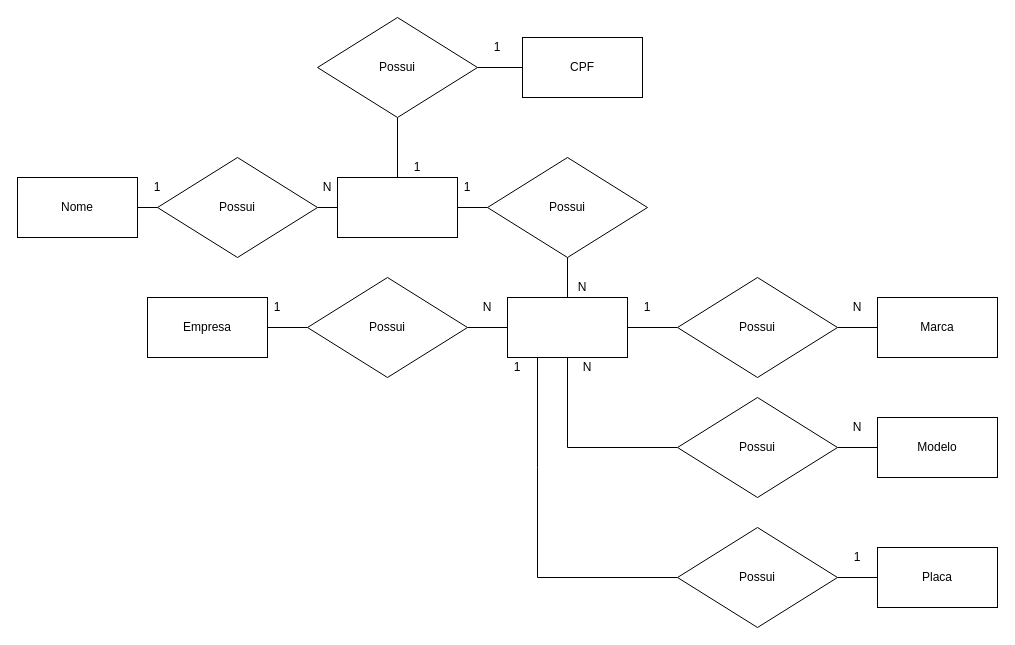
Some shapes in this 1015 by 645 pixel diagram are drawn without their labels. The centre of each missing label's shape, as x and y in pixels:
"Pessoa" goes at pixel 397 207.
"Veiculos" goes at pixel 567 327.
